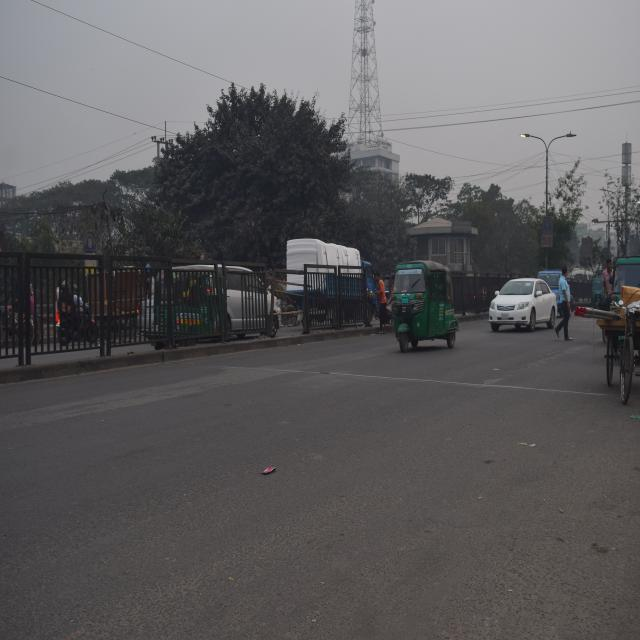car: (486, 274, 562, 335), (220, 268, 278, 334)
pickup-van: (282, 234, 373, 315)
